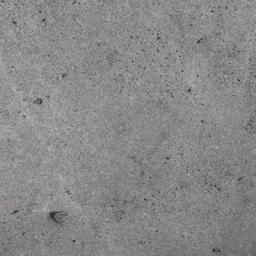FOD: (47, 206, 71, 226)
